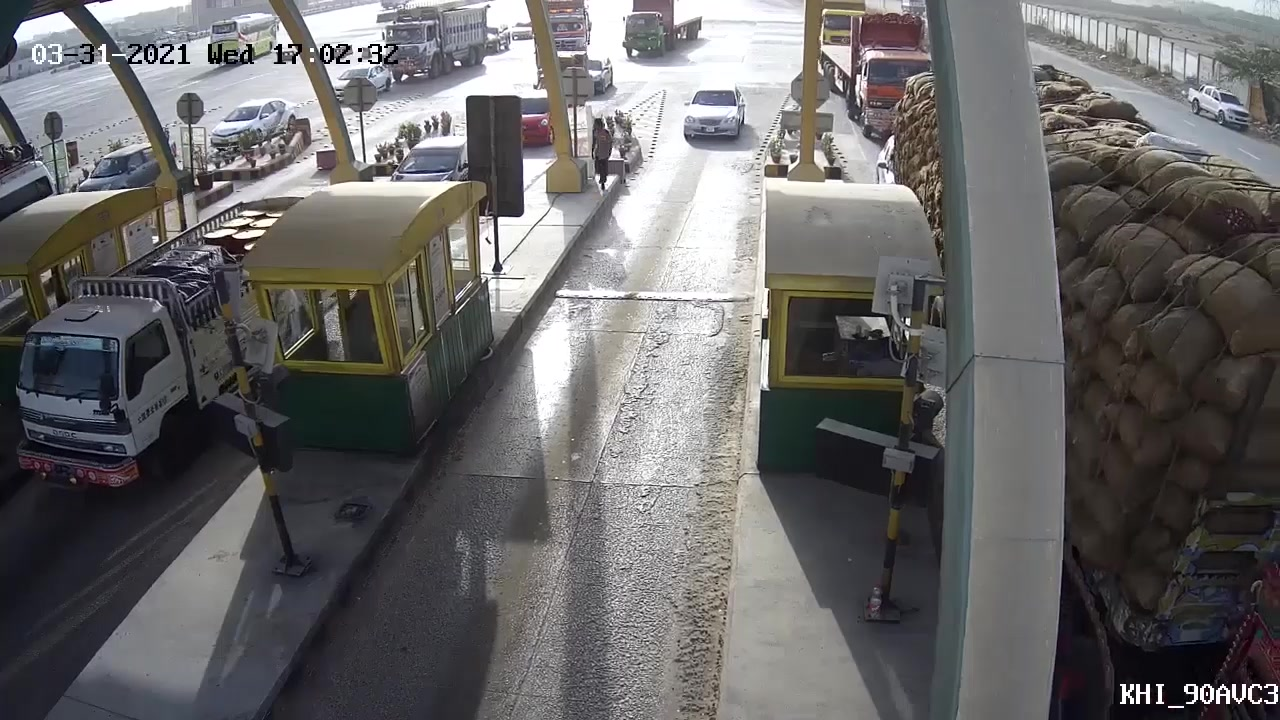F1: (670, 77, 747, 162)
